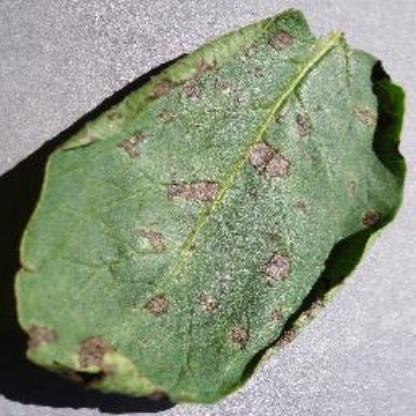Early-Blight: (14, 7, 410, 405)
